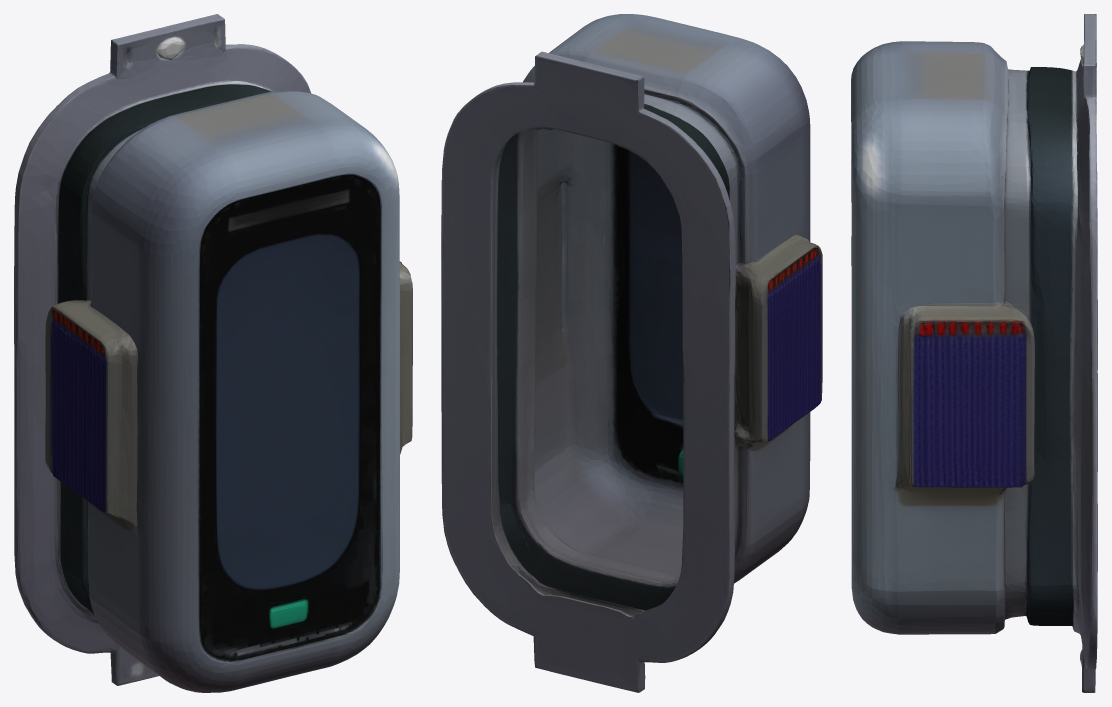
File: sample.glb
3 renders of one model, left to right at view 1: azimuth 30°, elevation 25°; view 2: azimuth 150°, elevation 25°; view 3: azimuth 270°, elevation 25°, orthographic. The views are drawn at different scales.
Visible parts, largest first — view 1: world; view 2: world; view 3: world.
Part boxes in pixels (x1,y1,x2,y2): world: (14,14,412,692); world: (441,14,822,692); world: (851,14,1097,692).
Size of the model in its own units: 0.5022 by 1 by 0.3566.
1 material, 1 textured.
